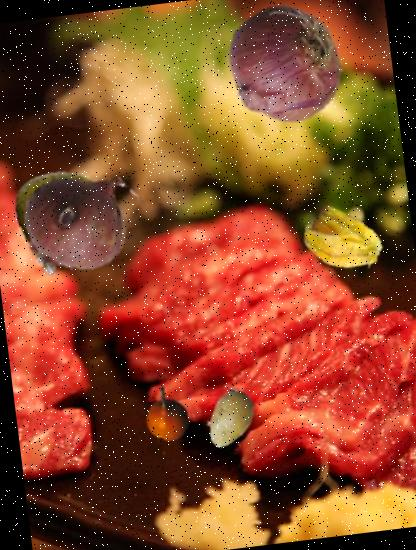Granadilla: (140, 387, 198, 445)
Guava: (11, 158, 120, 268)
Onion: (0, 149, 150, 304), (218, 0, 357, 131)
Physalis: (296, 195, 388, 287)
Potato: (196, 386, 264, 454)
